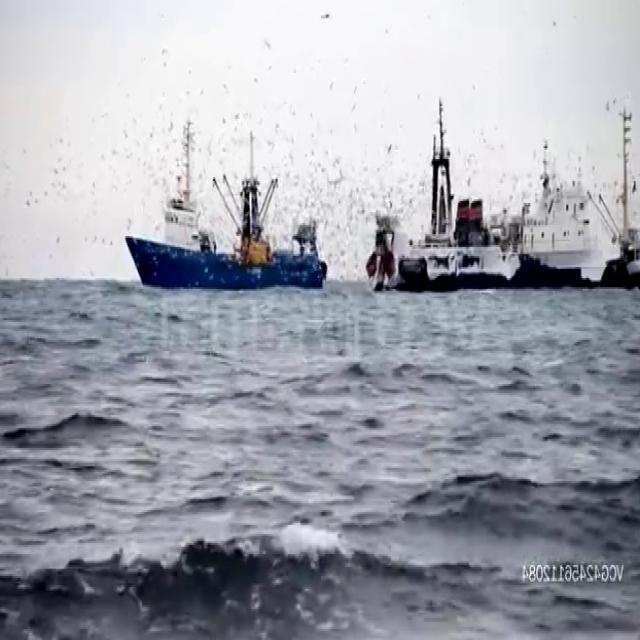houseboat: (131, 140, 326, 298), (382, 148, 575, 287), (489, 123, 632, 270)
